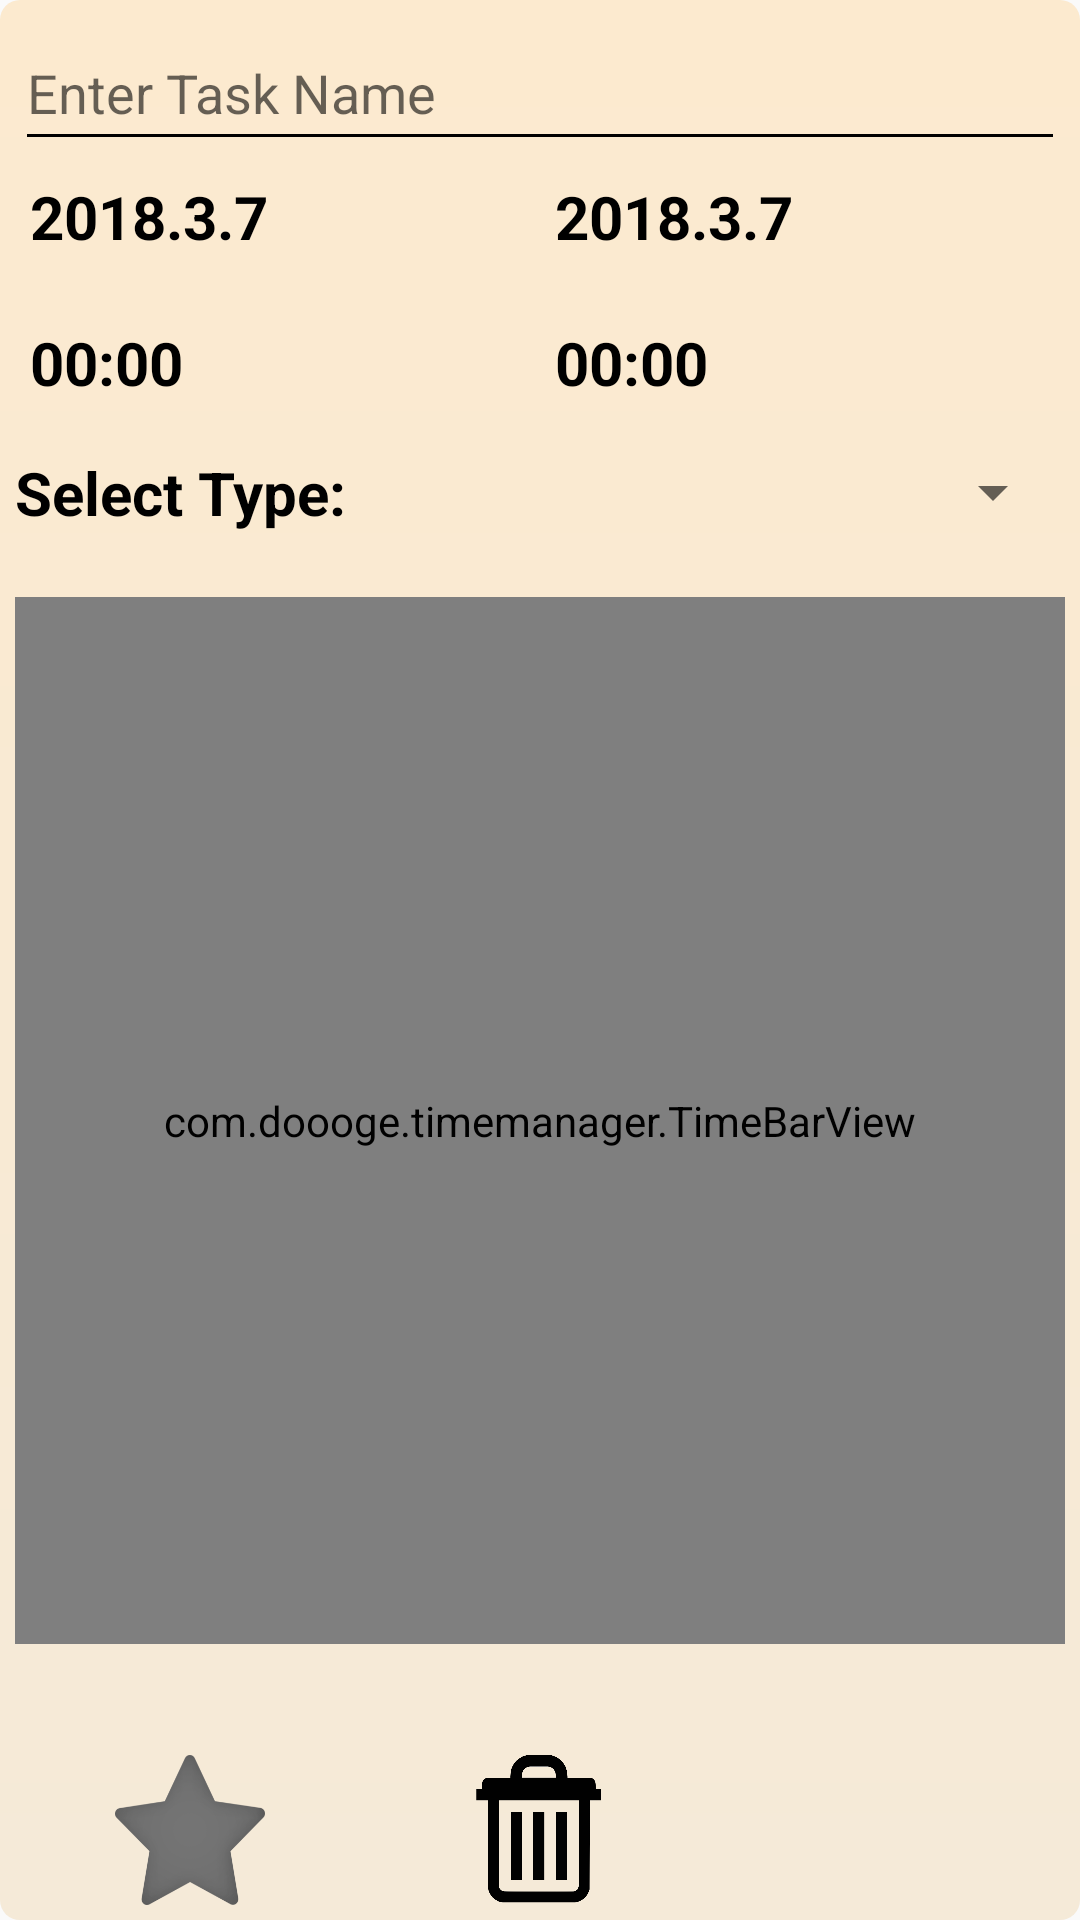

Point at icon controls on the screen. Image size 1080x1920, points as [x,y].
delete: [538,1829]
